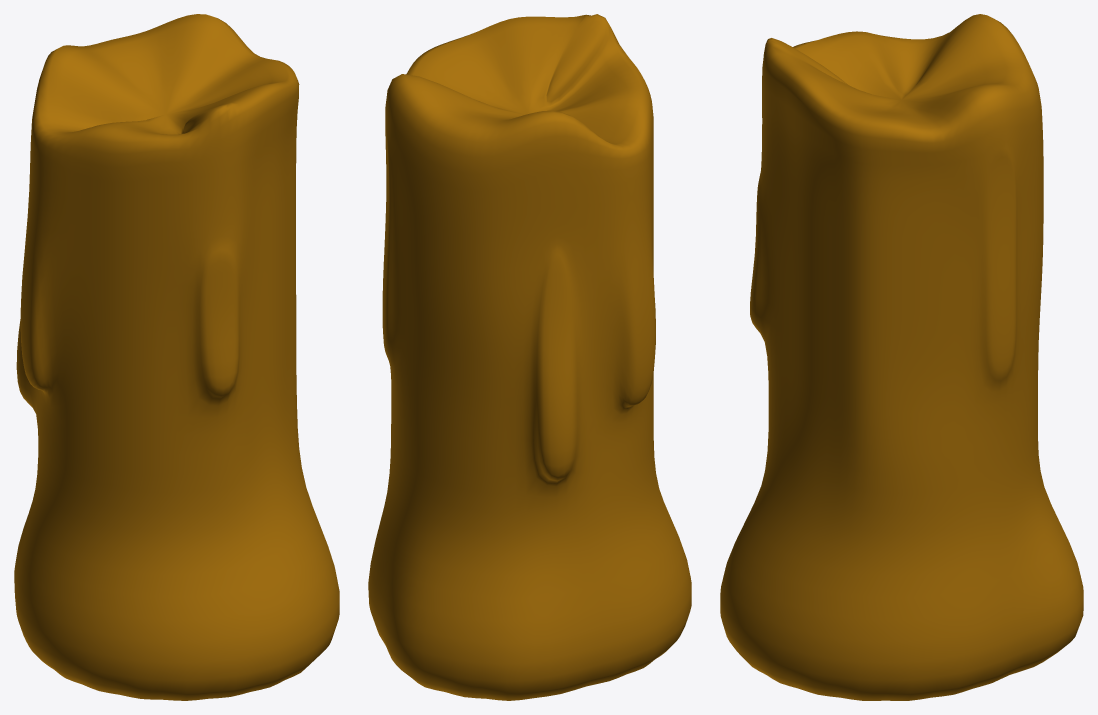
Rendered from Tall Candle.fbx.
3 renders of one model, left to right at view 1: azimuth 30°, elevation 25°; view 2: azimuth 150°, elevation 25°; view 3: azimuth 270°, elevation 25°, orthographic. The views are drawn at different scales.
Visible parts, largest first — view 1: pCylinder18; view 2: pCylinder18; view 3: pCylinder18.
Boxes of the visible parts, x1,y1,x2,y2 form: pCylinder18: (14, 14, 339, 700); pCylinder18: (368, 14, 691, 700); pCylinder18: (720, 14, 1083, 700).
Size of the model in its own units: 27.66 by 55.5 by 30.21.
1 material, 1 textured.
